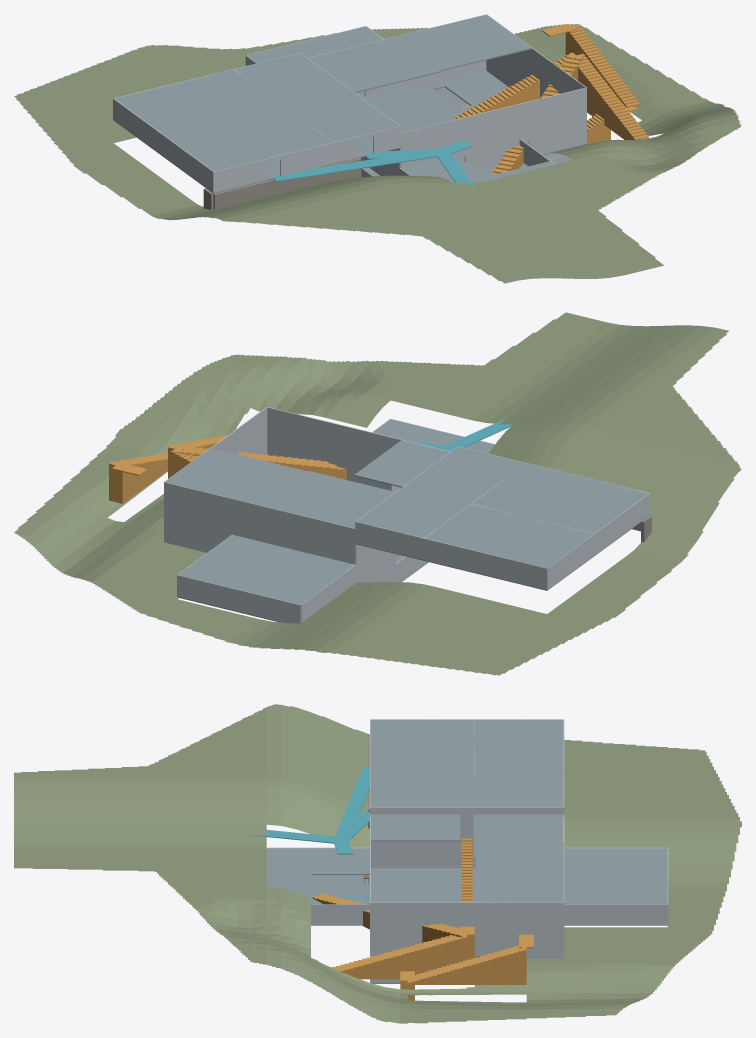
File: occupied-terrain.glb
3 views of the same model, one above another, from view 1: azimuth 30°, elevation 25°; view 2: azimuth 150°, elevation 25°; view 3: azimuth 270°, elevation 25° (orthographic). The views are drawn at different scales.
Parts seen in each view (by area): view 1: Saved editor occupied-room terrain WLD-09, Ceiling cap west-stair, Ceiling cap control, Wall turbine S.001, Ceiling cap office, Ceiling cap turbine.006, Wall turbine E, Ceiling cap turbine.003, Ceiling cap turbine, Ceiling cap plant, Ceiling cap turbine.004, Wall turbine S (+11 smaller); view 2: Saved editor occupied-room terrain WLD-09, Ceiling cap west-stair, Ceiling cap control, Ceiling cap plant, Wall turbine N.001, Ceiling cap office, Wall turbine S.001, Ceiling cap turbine.006, Wall office N, Wall plant N, Ceiling cap turbine, Ceiling cap turbine.003 (+10 smaller); view 3: Saved editor occupied-room terrain WLD-09, Wall turbine E, Ceiling cap west-stair, Ceiling cap control, Ceiling cap plant, Ceiling cap office, Ceiling cap turbine.006, Wall turbine W, Ceiling cap turbine.003, Ceiling cap turbine, Wall plant E, Floor turbine.002 (+11 smaller).
Part boxes in pixels (x1,y1,x2,y2): Saved editor occupied-room terrain WLD-09: [14, 24, 741, 283]; Ceiling cap west-stair: [234, 53, 399, 142]; Ceiling cap control: [160, 103, 332, 171]; Wall turbine S.001: [464, 87, 586, 170]; Ceiling cap office: [115, 69, 278, 131]; Ceiling cap turbine.006: [394, 14, 531, 71]; Wall turbine E: [486, 14, 586, 98]; Ceiling cap turbine.003: [362, 86, 454, 132]; Ceiling cap turbine: [308, 46, 400, 91]; Ceiling cap plant: [246, 26, 382, 63]; Ceiling cap turbine.004: [355, 37, 438, 79]; Wall turbine S: [400, 120, 455, 168]; Saved editor occupied-room terrain WLD-09: [14, 312, 741, 675]; Ceiling cap west-stair: [356, 446, 526, 537]; Ceiling cap control: [472, 463, 648, 533]; Ceiling cap plant: [178, 535, 354, 604]; Wall turbine N.001: [164, 482, 288, 550]; Ceiling cap office: [425, 504, 593, 567]; Wall turbine S.001: [267, 407, 391, 490]; Ceiling cap turbine.006: [165, 448, 306, 505]; Wall office N: [424, 538, 547, 589]; Wall plant N: [177, 575, 300, 623]; Ceiling cap turbine: [300, 481, 394, 528]; Ceiling cap turbine.003: [355, 440, 449, 485]; Saved editor occupied-room terrain WLD-09: [14, 704, 741, 1023]; Wall turbine E: [370, 902, 563, 956]; Ceiling cap west-stair: [370, 776, 563, 807]; Ceiling cap control: [370, 719, 474, 776]; Ceiling cap plant: [564, 848, 667, 904]; Ceiling cap office: [474, 719, 563, 776]; Ceiling cap turbine.006: [475, 858, 563, 902]; Wall turbine W: [371, 814, 475, 868]; Ceiling cap turbine.003: [370, 814, 458, 841]; Ceiling cap turbine: [475, 814, 563, 840]; Wall plant E: [564, 904, 667, 924]; Floor turbine.002: [416, 868, 475, 901].
Size of the model in its own units: 85 by 13.16 by 98.
23 materials, 17 textured.
